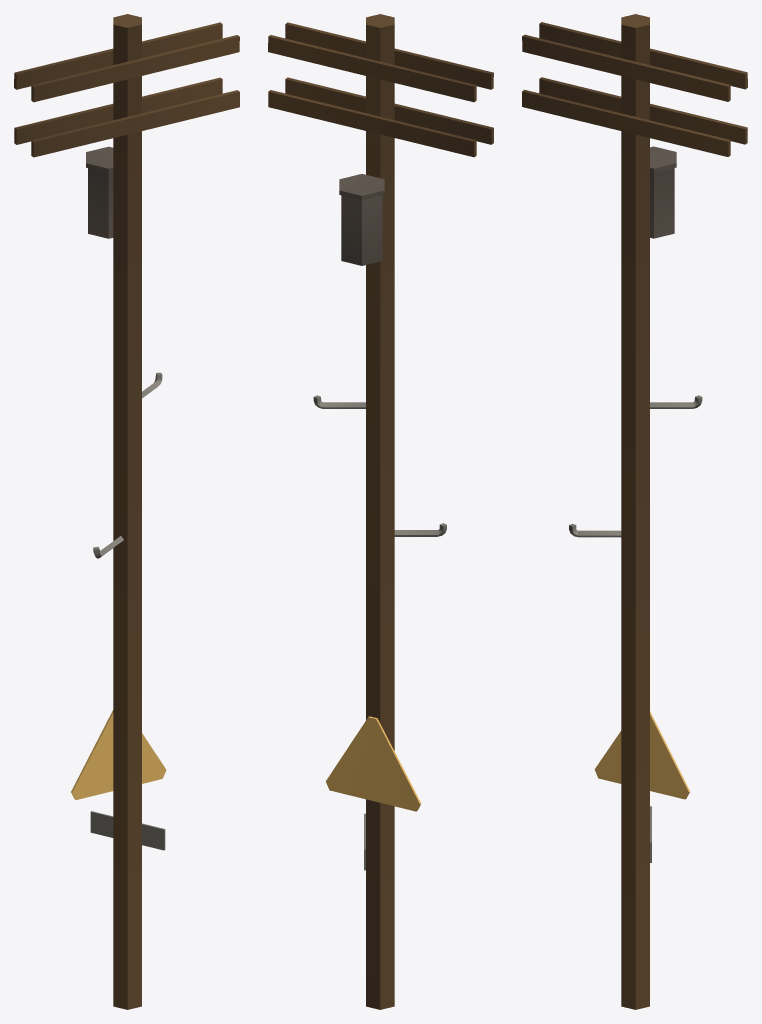
File: Telephone.fbx
3 renders of one model, left to right at view 1: azimuth 30°, elevation 25°; view 2: azimuth 150°, elevation 25°; view 3: azimuth 330°, elevation 25°, orthographic.
Visible parts, largest first — view 1: polySurface124, polySurface119, polySurface125, polySurface121, polySurface120, polySurface123, pCylinder1, polySurface127; view 2: polySurface124, polySurface123, polySurface120, polySurface121, pCylinder1, polySurface119, polySurface125; view 3: polySurface124, polySurface119, polySurface125, polySurface121, polySurface120, polySurface123, pCylinder1.
Part boxes in pixels (x1,y1,x2,y2): polySurface124: (113, 14, 141, 1009); polySurface119: (31, 90, 239, 157); polySurface125: (31, 35, 239, 102); polySurface121: (14, 77, 222, 144); polySurface120: (14, 22, 222, 89); polySurface123: (71, 710, 166, 799); pCylinder1: (86, 146, 113, 238); polySurface127: (90, 811, 165, 850); polySurface124: (366, 14, 394, 1009); polySurface123: (326, 716, 421, 811); polySurface120: (268, 35, 476, 102); polySurface121: (268, 90, 476, 157); pCylinder1: (339, 174, 384, 265); polySurface119: (285, 77, 493, 144); polySurface125: (285, 22, 493, 89); polySurface124: (621, 14, 649, 1009); polySurface119: (522, 89, 730, 156); polySurface125: (522, 34, 730, 101); polySurface121: (539, 77, 747, 144); polySurface120: (539, 22, 747, 89); polySurface123: (594, 711, 689, 799); pCylinder1: (650, 146, 676, 238).
Size of the model in its own units: 19.36 by 88.12 by 7.74.
1 material, 1 textured.
